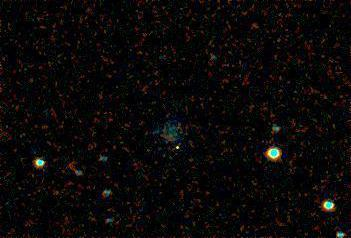star: (162, 134, 192, 164)
